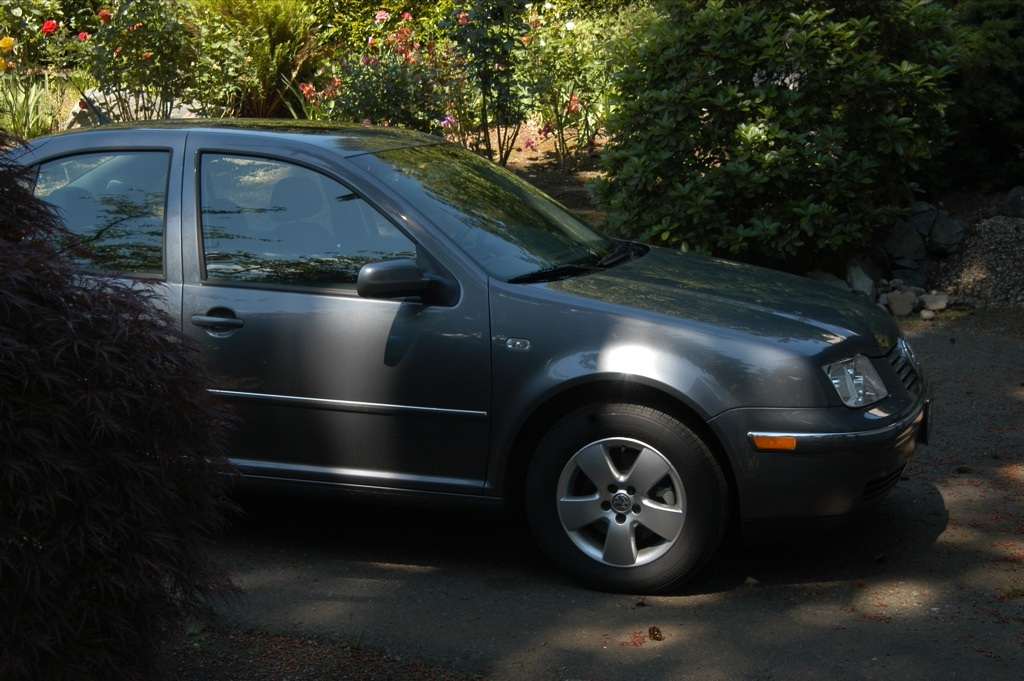Tree: (0, 102, 241, 681), (581, 0, 1024, 255)
